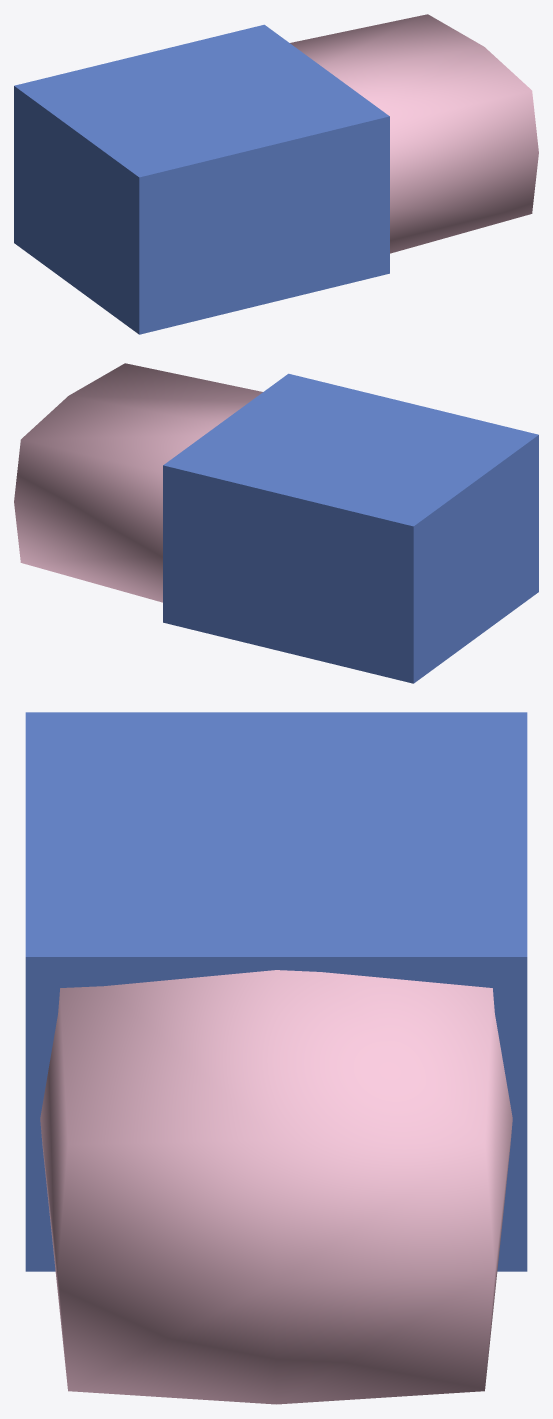
Rendered from eraser.glb.
The picture shows the model from 3 angles, top to bottom: view 1: azimuth 30°, elevation 25°; view 2: azimuth 150°, elevation 25°; view 3: azimuth 270°, elevation 25°; orthographic projection. The views are drawn at different scales.
Parts seen in each view (by area): view 1: root; view 2: root; view 3: root.
Part boxes in pixels (bbox=[...]): root: bbox=[14, 14, 538, 334]; root: bbox=[14, 363, 538, 683]; root: bbox=[25, 712, 527, 1404].
Size of the model in its own units: 0.1 by 0.036 by 0.052.
